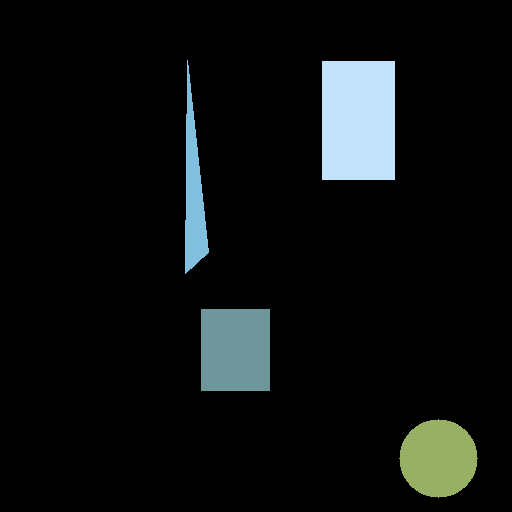circle: (399, 419, 477, 497)
rectangle: (322, 61, 394, 179), (201, 309, 269, 390)
triangle: (185, 60, 208, 273)
